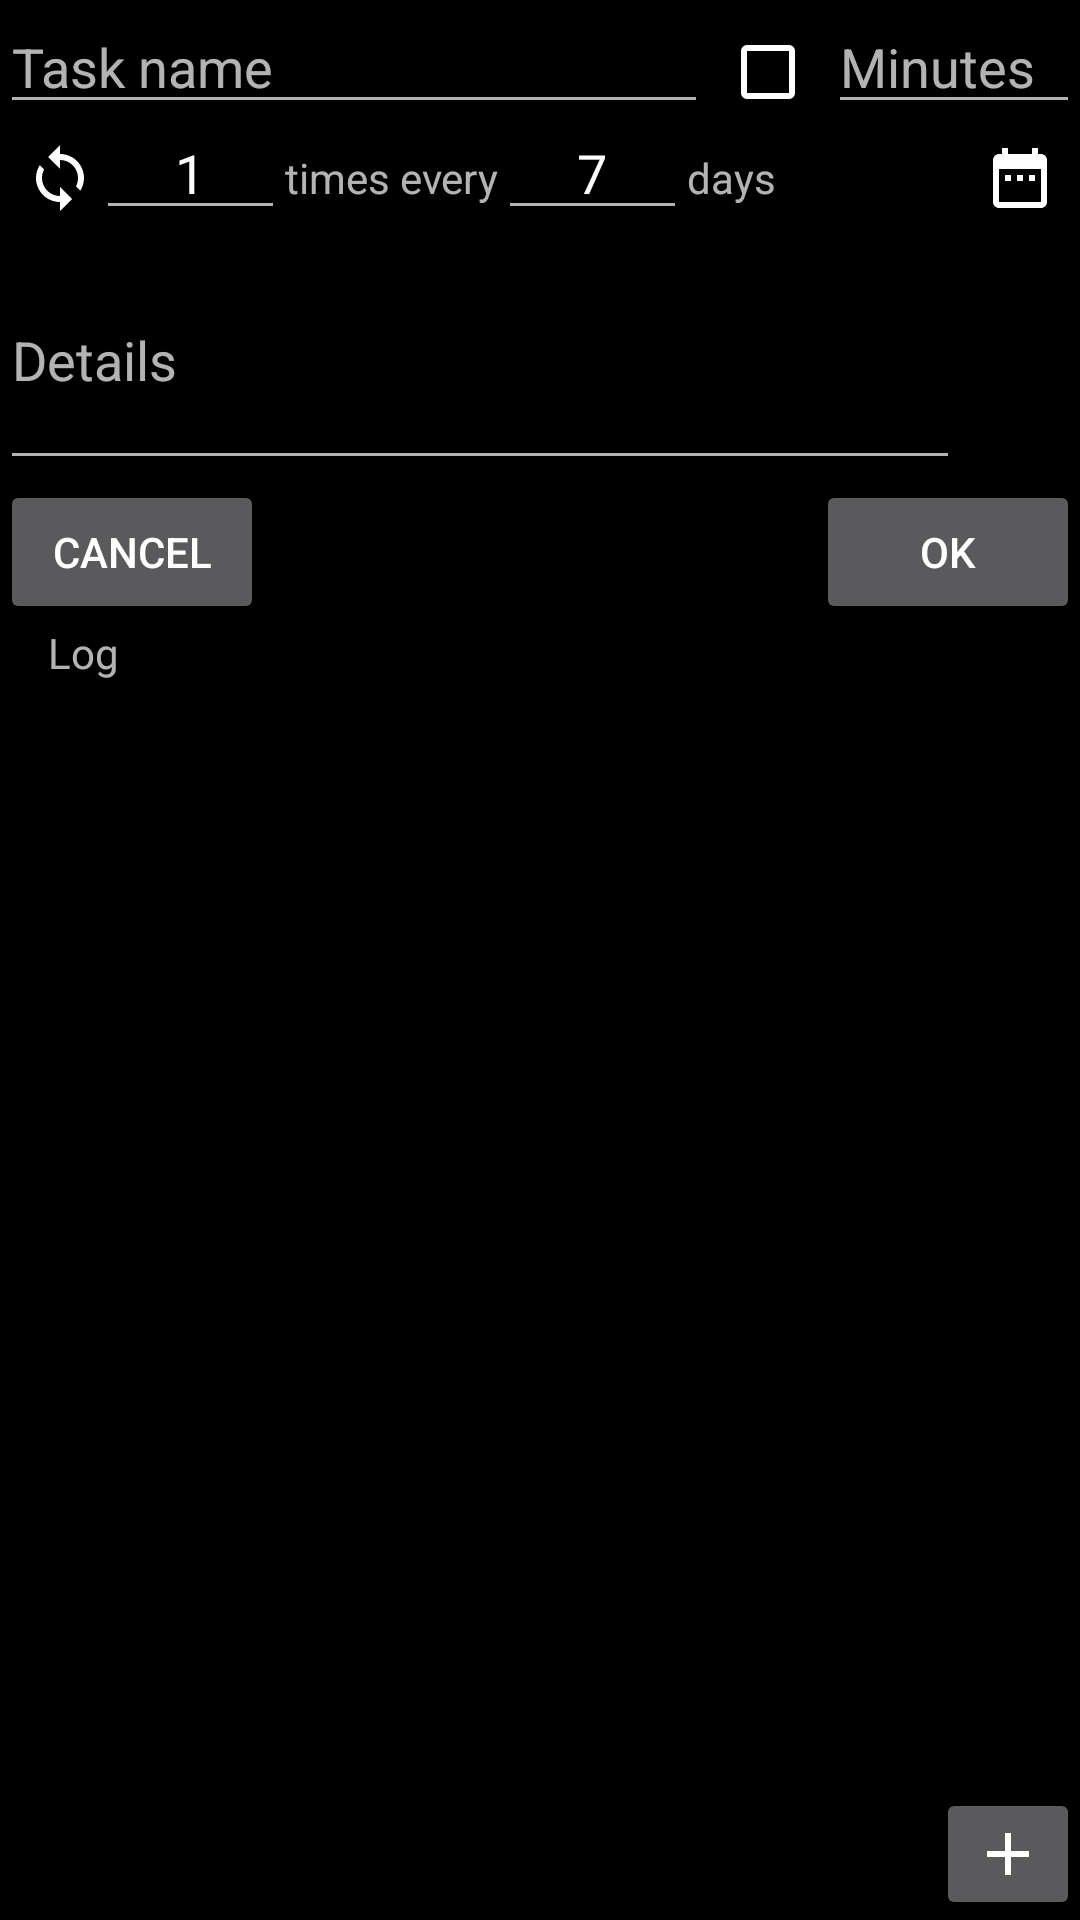

Point at icon controls on the screen. Image size 1080w x 1920h, points as (x,y).
Add log entry: (1008,1854)
